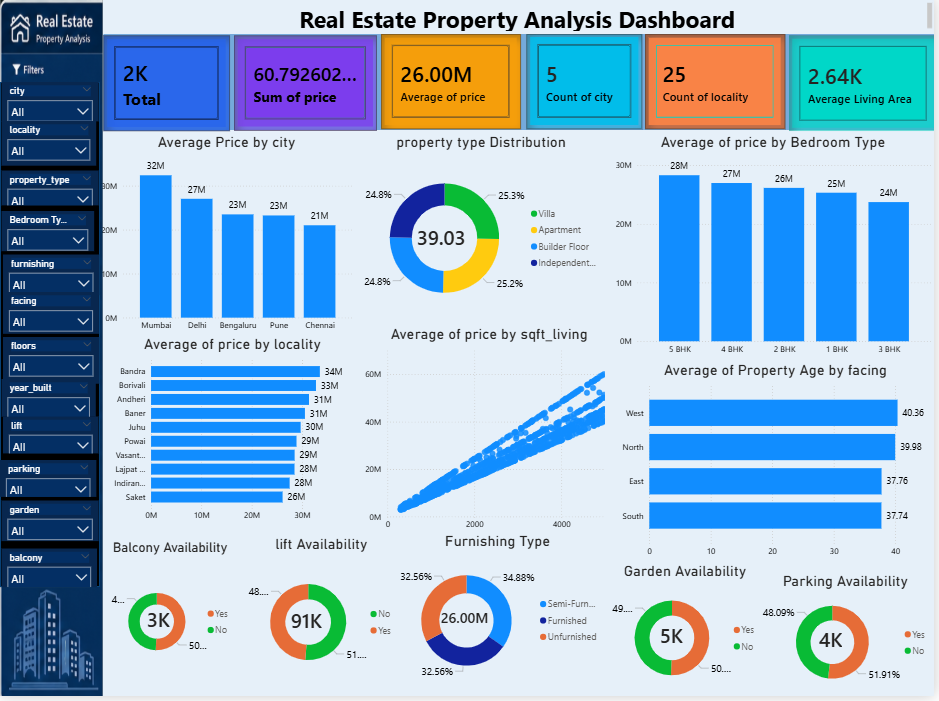

This screenshot's page, from the dashboard's own definition file:
{"tool":"powerbi","page":{"name":"Page 1","canvas":[1519,1135],"ordinal":0},"visuals":[{"type":"group","id":"g1","title":"Group 1","box":[167.1,58.7,1352.5,155.8],"z":0},{"type":"cardVisual","fields":{"Data":["city_dim.Total"]},"box":[167.1,61,205.5,155.5],"z":0,"group":"g1"},{"type":"donutChart","title":"property type Distribution","fields":{"Category":["property_type_dim.property_type"],"Y":["Avg(fact_house_prices.Property Age)"]},"box":[578.3,220.6,408.7,313.9],"z":0,"group":"g2"},{"type":"cardVisual","fields":{"Data":["Sum(fact_house_prices.balcony)"]},"box":[16.3,841.5,58.1,83.3],"z":0,"group":"g8"},{"type":"cardVisual","fields":{"Data":["Sum(fact_house_prices.price)"]},"box":[379.8,61,232.2,154.5],"z":1000,"group":"g1"},{"type":"shape","box":[0,135.5,162.6,821.1],"z":1000,"group":"g8"},{"type":"columnChart","title":"Average Price by city","fields":{"Category":["city_dim.city"],"Y":["Avg(fact_house_prices.price)"]},"box":[169,219,408.6,332.8],"z":1000},{"type":"cardVisual","fields":{"Data":["Avg(fact_house_prices.Property Age)"]},"box":[649.9,309.5,155.8,160.3],"z":1000,"group":"g2"},{"type":"image","box":[0,0,167.1,1137],"z":2000,"group":"g7"},{"type":"textbox","box":[185.2,2.3,1316.4,56.5],"z":2000},{"type":"cardVisual","fields":{"Data":["Avg(fact_house_prices.price)"]},"box":[618,58.7,227.5,154.5],"z":2000,"group":"g1"},{"type":"slicer","fields":{"Values":["city_dim.city"]},"box":[2.5,135.8,158.1,64.3],"z":2000,"group":"g8"},{"type":"cardVisual","fields":{"Data":["Count(city_dim.city)"]},"box":[853.9,58.7,187.7,154.5],"z":3000,"group":"g1"},{"type":"slicer","fields":{"Values":["locatlity_dim.locality"]},"box":[2.3,199.4,154.3,72.8],"z":3000,"group":"g8"},{"type":"columnChart","fields":{"Y":["Avg(fact_house_prices.price)"],"Category":["fact_house_prices.Bedroom Type"]},"box":[995.8,219,523.9,370.3],"z":3000},{"type":"cardVisual","fields":{"Data":["Count(locatlity_dim.locality)"]},"box":[1046.8,59,228,154.5],"z":4000,"group":"g1"},{"type":"slicer","fields":{"Values":["property_type_dim.property_type"]},"box":[2.3,278.9,158.1,56.5],"z":4000,"group":"g8"},{"type":"barChart","fields":{"Category":["locatlity_dim.locality"],"Y":["Avg(fact_house_prices.price)"]},"box":[169.4,548.7,420,311.6],"z":4000},{"type":"cardVisual","fields":{"Data":["fact_house_prices.Average Living Area"]},"box":[1281.7,59.9,240.1,155.5],"z":5000,"group":"g1"},{"type":"slicer","fields":{"Values":["fact_house_prices.Bedroom Type"]},"box":[3.5,346.3,150.6,65.1],"z":5000,"group":"g8"},{"type":"scatterChart","fields":{"Y":["Avg(fact_house_prices.price)"],"X":["fact_house_prices.sqft_living"]},"box":[587.1,532.9,415.5,343.2],"z":5000},{"type":"slicer","fields":{"Values":["furnishing_dim.furnishing"]},"box":[4,416.3,156.6,65.7],"z":6000,"group":"g8"},{"type":"barChart","fields":{"Category":["facing_dim.facing"],"Y":["Avg(fact_house_prices.Property Age)"]},"box":[1002.6,589.3,517.1,327.4],"z":6000},{"type":"group","id":"g2","title":"Group 2","box":[578.3,220.6,408.7,313.9],"z":7000},{"type":"slicer","fields":{"Values":["facing_dim.facing"]},"box":[4.5,477.6,155.8,67.7],"z":7000,"group":"g8"},{"type":"donutChart","title":"Parking Availability","fields":{"Y":["Avg(fact_house_prices.parking)"],"Category":["garden_dim.garden"]},"box":[1232.9,934.8,286.8,198.7],"z":7000,"group":"g4"},{"type":"slicer","fields":{"Values":["fact_house_prices.floors"]},"box":[4,550.7,156.6,76],"z":8000,"group":"g8"},{"type":"group","id":"g3","title":"Group 3","box":[634.5,867.1,350,259.7],"z":8000},{"type":"donutChart","title":"Furnishing Type","fields":{"Category":["furnishing_dim.furnishing"],"Y":["Avg(fact_house_prices.price)"]},"box":[634.5,867.1,350,259.7],"z":8000,"group":"g3"},{"type":"donutChart","title":"lift Availability","fields":{"Category":["lift_dim.lift"],"Y":["Avg(fact_house_prices.Property Age)"]},"box":[395.2,873.8,255.2,255.2],"z":8003,"group":"g6"},{"type":"donutChart","title":"Garden Availability","fields":{"Category":["garden_dim.garden"],"Y":["Sum(fact_house_prices.floors)"]},"box":[986.7,916.7,252.9,219],"z":8004,"group":"g5"},{"type":"cardVisual","fields":{"Data":["Avg(fact_house_prices.price)"]},"box":[687.8,918.1,150.7,173.9],"z":8007,"group":"g3"},{"type":"cardVisual","fields":{"Data":["Sum(fact_house_prices.parking)"]},"box":[1302.4,986.7,128,111],"z":8009,"group":"g4"},{"type":"cardVisual","fields":{"Data":["Sum(fact_house_prices.floors)"]},"box":[1043.4,987.6,101.6,94.8],"z":8011,"group":"g5"},{"type":"cardVisual","fields":{"Data":["Sum(fact_house_prices.Property Age)"]},"box":[444.1,958.8,115.2,103.9],"z":8016,"group":"g6"},{"type":"slicer","fields":{"Values":["lift_dim.lift"]},"box":[4.8,679.6,155.6,60],"z":9000,"group":"g8"},{"type":"group","id":"g4","title":"Group 4","box":[1232.9,934.8,286.8,198.7],"z":9000},{"type":"slicer","fields":{"Values":["fact_house_prices.parking"]},"box":[1,749.4,156.6,59.9],"z":10000,"group":"g8"},{"type":"group","id":"g5","title":"Group 5","box":[986.7,916.7,252.9,219],"z":10000},{"type":"slicer","fields":{"Values":["fact_house_prices.year_built"]},"box":[3.5,618.3,153.1,61.3],"z":11000,"group":"g8"},{"type":"group","id":"g6","title":"Group 7","box":[395.2,873.8,255.2,255.2],"z":11000},{"type":"donutChart","title":"Balcony Availability","fields":{"Y":["Avg(fact_house_prices.balcony)"],"Category":["lift_dim.lift"]},"box":[169.4,880.6,216.8,241.6],"z":11000,"group":"g9"},{"type":"group","id":"g7","title":"Group 6","box":[0,0,166.7,1137.7],"z":12000},{"type":"slicer","fields":{"Values":["garden_dim.garden"]},"box":[2.5,816.6,158.1,65.7],"z":12000,"group":"g8"},{"type":"group","id":"g8","title":"Group 8","box":[0,135.5,162.6,821.1],"z":13000},{"type":"slicer","fields":{"Values":["fact_house_prices.balcony"]},"box":[2.3,892.8,155.6,62.6],"z":13000,"group":"g8"},{"type":"group","id":"g9","title":"Group 9","box":[169.4,880.6,216.8,241.6],"z":14000},{"type":"cardVisual","fields":{"Data":["Sum(fact_house_prices.balcony)"]},"box":[210,957.4,108.4,103.9],"z":25004,"group":"g9"}]}

Visuals, with their boxes on the page's 1519x1135 design canvas (x1, y1, x2, y2). These are canvas units, not pixel positions in the 939x701 screenshot, which may show the page scaled, cropped or inside an application window:
"Group 1" group: 167,59,1520,214
cardVisual - city_dim.Total: 167,61,373,216
"property type Distribution" donutChart: 578,221,987,534
cardVisual - Sum(fact_house_prices.balcony): 16,842,74,925
cardVisual - Sum(fact_house_prices.price): 380,61,612,216
shape: 0,136,163,957
"Average Price by city" columnChart: 169,219,578,552
cardVisual - Avg(fact_house_prices.Property Age): 650,310,806,470
image: 0,0,167,1137
textbox: 185,2,1502,59
cardVisual - Avg(fact_house_prices.price): 618,59,846,213
slicer - city_dim.city: 2,136,161,200
cardVisual - Count(city_dim.city): 854,59,1042,213
slicer - locatlity_dim.locality: 2,199,157,272
columnChart - Avg(fact_house_prices.price) x fact_house_prices.Bedroom Type: 996,219,1520,589
cardVisual - Count(locatlity_dim.locality): 1047,59,1275,214
slicer - property_type_dim.property_type: 2,279,160,335
barChart - locatlity_dim.locality x Avg(fact_house_prices.price): 169,549,589,860
cardVisual - fact_house_prices.Average Living Area: 1282,60,1522,215
slicer - fact_house_prices.Bedroom Type: 4,346,154,411
scatterChart - Avg(fact_house_prices.price) x fact_house_prices.sqft_living: 587,533,1003,876
slicer - furnishing_dim.furnishing: 4,416,161,482
barChart - facing_dim.facing x Avg(fact_house_prices.Property Age): 1003,589,1520,917
"Group 2" group: 578,221,987,534
slicer - facing_dim.facing: 4,478,160,545
"Parking Availability" donutChart: 1233,935,1520,1134
slicer - fact_house_prices.floors: 4,551,161,627
"Group 3" group: 634,867,984,1127
"Furnishing Type" donutChart: 634,867,984,1127
"lift Availability" donutChart: 395,874,650,1129
"Garden Availability" donutChart: 987,917,1240,1136
cardVisual - Avg(fact_house_prices.price): 688,918,838,1092
cardVisual - Sum(fact_house_prices.parking): 1302,987,1430,1098
cardVisual - Sum(fact_house_prices.floors): 1043,988,1145,1082
cardVisual - Sum(fact_house_prices.Property Age): 444,959,559,1063
slicer - lift_dim.lift: 5,680,160,740
"Group 4" group: 1233,935,1520,1134
slicer - fact_house_prices.parking: 1,749,158,809
"Group 5" group: 987,917,1240,1136
slicer - fact_house_prices.year_built: 4,618,157,680
"Group 7" group: 395,874,650,1129
"Balcony Availability" donutChart: 169,881,386,1122
"Group 6" group: 0,0,167,1138
slicer - garden_dim.garden: 2,817,161,882
"Group 8" group: 0,136,163,957
slicer - fact_house_prices.balcony: 2,893,158,955
"Group 9" group: 169,881,386,1122
cardVisual - Sum(fact_house_prices.balcony): 210,957,318,1061
